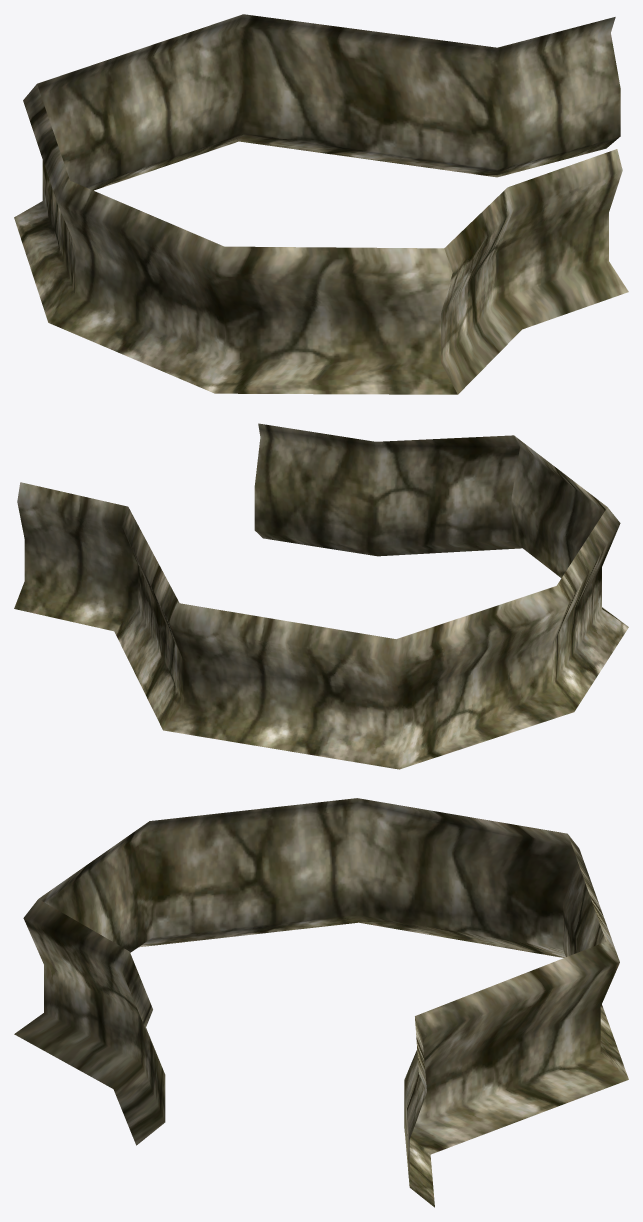
The model's file is CB_NEWPLAYSURFACE_CB_PLAYSURFACE127.fbx.
3 views of the same model, one above another, from view 1: azimuth 30°, elevation 25°; view 2: azimuth 150°, elevation 25°; view 3: azimuth 270°, elevation 25° (orthographic). The views are drawn at different scales.
Visible parts, largest first — view 1: CB_NEWPLAYSURFACE_CB_PLAYSURFACE127; view 2: CB_NEWPLAYSURFACE_CB_PLAYSURFACE127; view 3: CB_NEWPLAYSURFACE_CB_PLAYSURFACE127.
Part boxes in pixels (x1,y1,x2,y2): CB_NEWPLAYSURFACE_CB_PLAYSURFACE127: (14,14,628,394); CB_NEWPLAYSURFACE_CB_PLAYSURFACE127: (14,423,628,769); CB_NEWPLAYSURFACE_CB_PLAYSURFACE127: (14,798,628,1207).
Bounding box in the file's own units: 134465 × 29558 × 122334.
2 materials, 2 textured.
